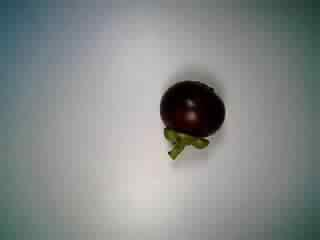mangosteen: (154, 76, 228, 162)
